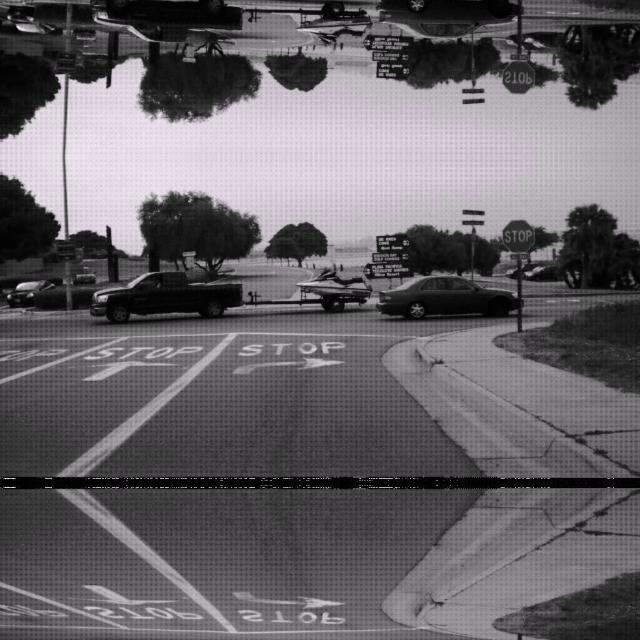stop: (502, 218, 534, 252), (502, 60, 534, 94)
